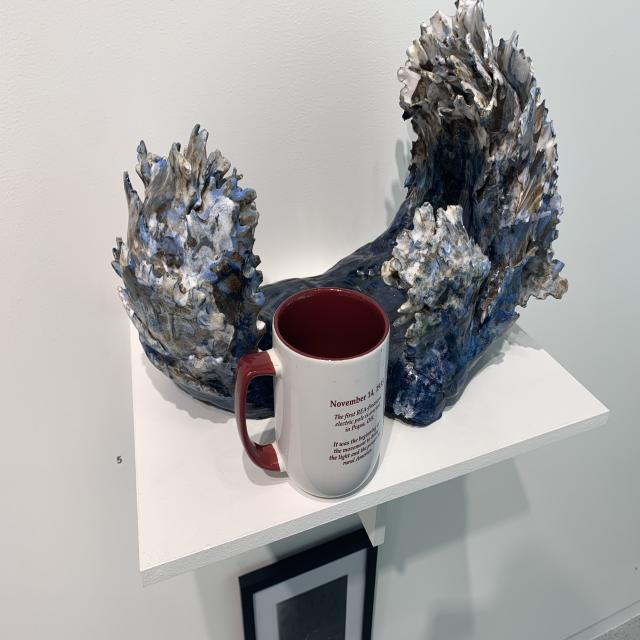Cup: (232, 280, 398, 504)
